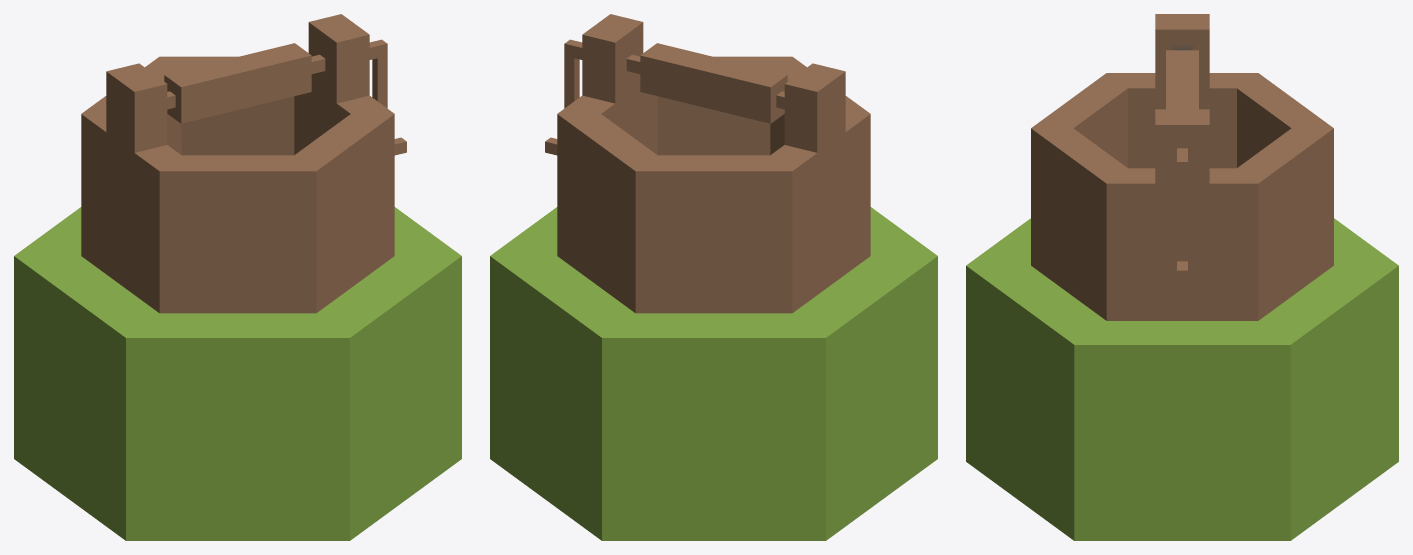
File: water_well.fbx
3 views of the same model, side by side, from view 1: azimuth 30°, elevation 25°; view 2: azimuth 150°, elevation 25°; view 3: azimuth 270°, elevation 25° (orthographic). The views are drawn at different scales.
Parts seen in each view (by area): view 1: Cylinder; view 2: Cylinder; view 3: Cylinder.
Boxes of the visible parts, x1,y1,x2,y2 form: Cylinder: (14,14,461,540); Cylinder: (490,14,937,540); Cylinder: (966,14,1398,540).
Bounding box in the file's own units: 1.73 × 2 × 2.
